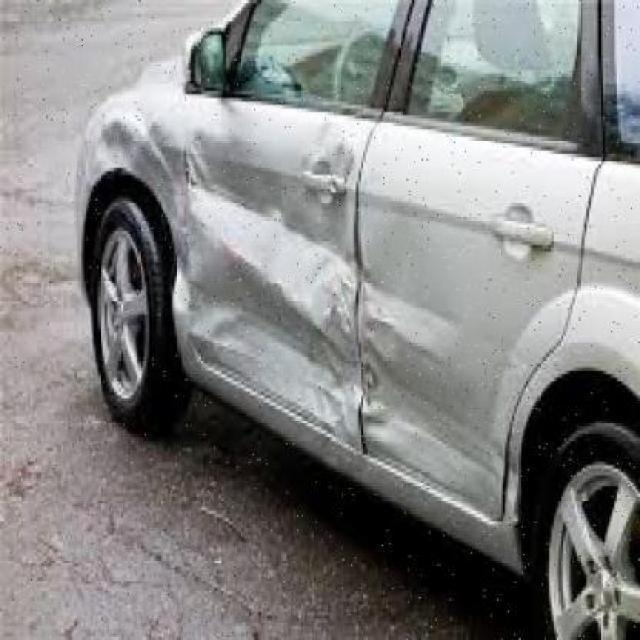doorouter-dent: (363, 116, 561, 455), (178, 99, 360, 428)
fender-dent: (69, 77, 186, 231)
